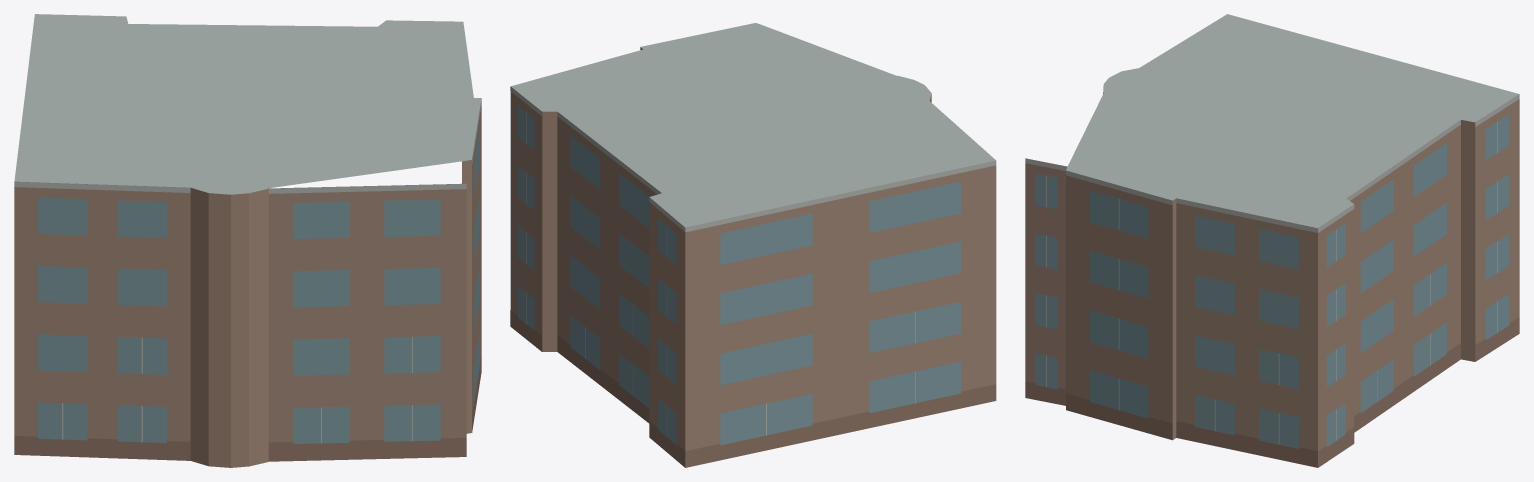
File: survey-upis-32647112.glb
3 views of the same model, side by side, from view 1: azimuth 30°, elevation 25°; view 2: azimuth 150°, elevation 25°; view 3: azimuth 270°, elevation 25° (orthographic). The views are drawn at different scales.
Visible parts, largest first — view 1: survey-upis-32647112.tmp; view 2: survey-upis-32647112.tmp; view 3: survey-upis-32647112.tmp.
Boxes of the visible parts, box(x1,y1,x2,y2) form: survey-upis-32647112.tmp: box(14, 14, 481, 467); survey-upis-32647112.tmp: box(510, 23, 996, 467); survey-upis-32647112.tmp: box(1025, 14, 1519, 467).
Bounding box in the file's own units: 23.4 × 12.2 × 22.81.
